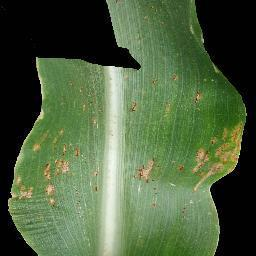Corn_Common_Rust: (174, 117, 248, 193), (24, 128, 83, 167), (131, 152, 160, 208), (43, 167, 71, 209), (5, 171, 35, 205), (87, 82, 104, 129), (33, 67, 45, 125), (188, 15, 208, 45), (186, 87, 208, 106), (63, 77, 83, 95), (125, 93, 141, 115), (211, 57, 228, 75), (94, 167, 102, 195), (178, 206, 190, 222), (169, 70, 181, 82), (146, 78, 157, 86)
